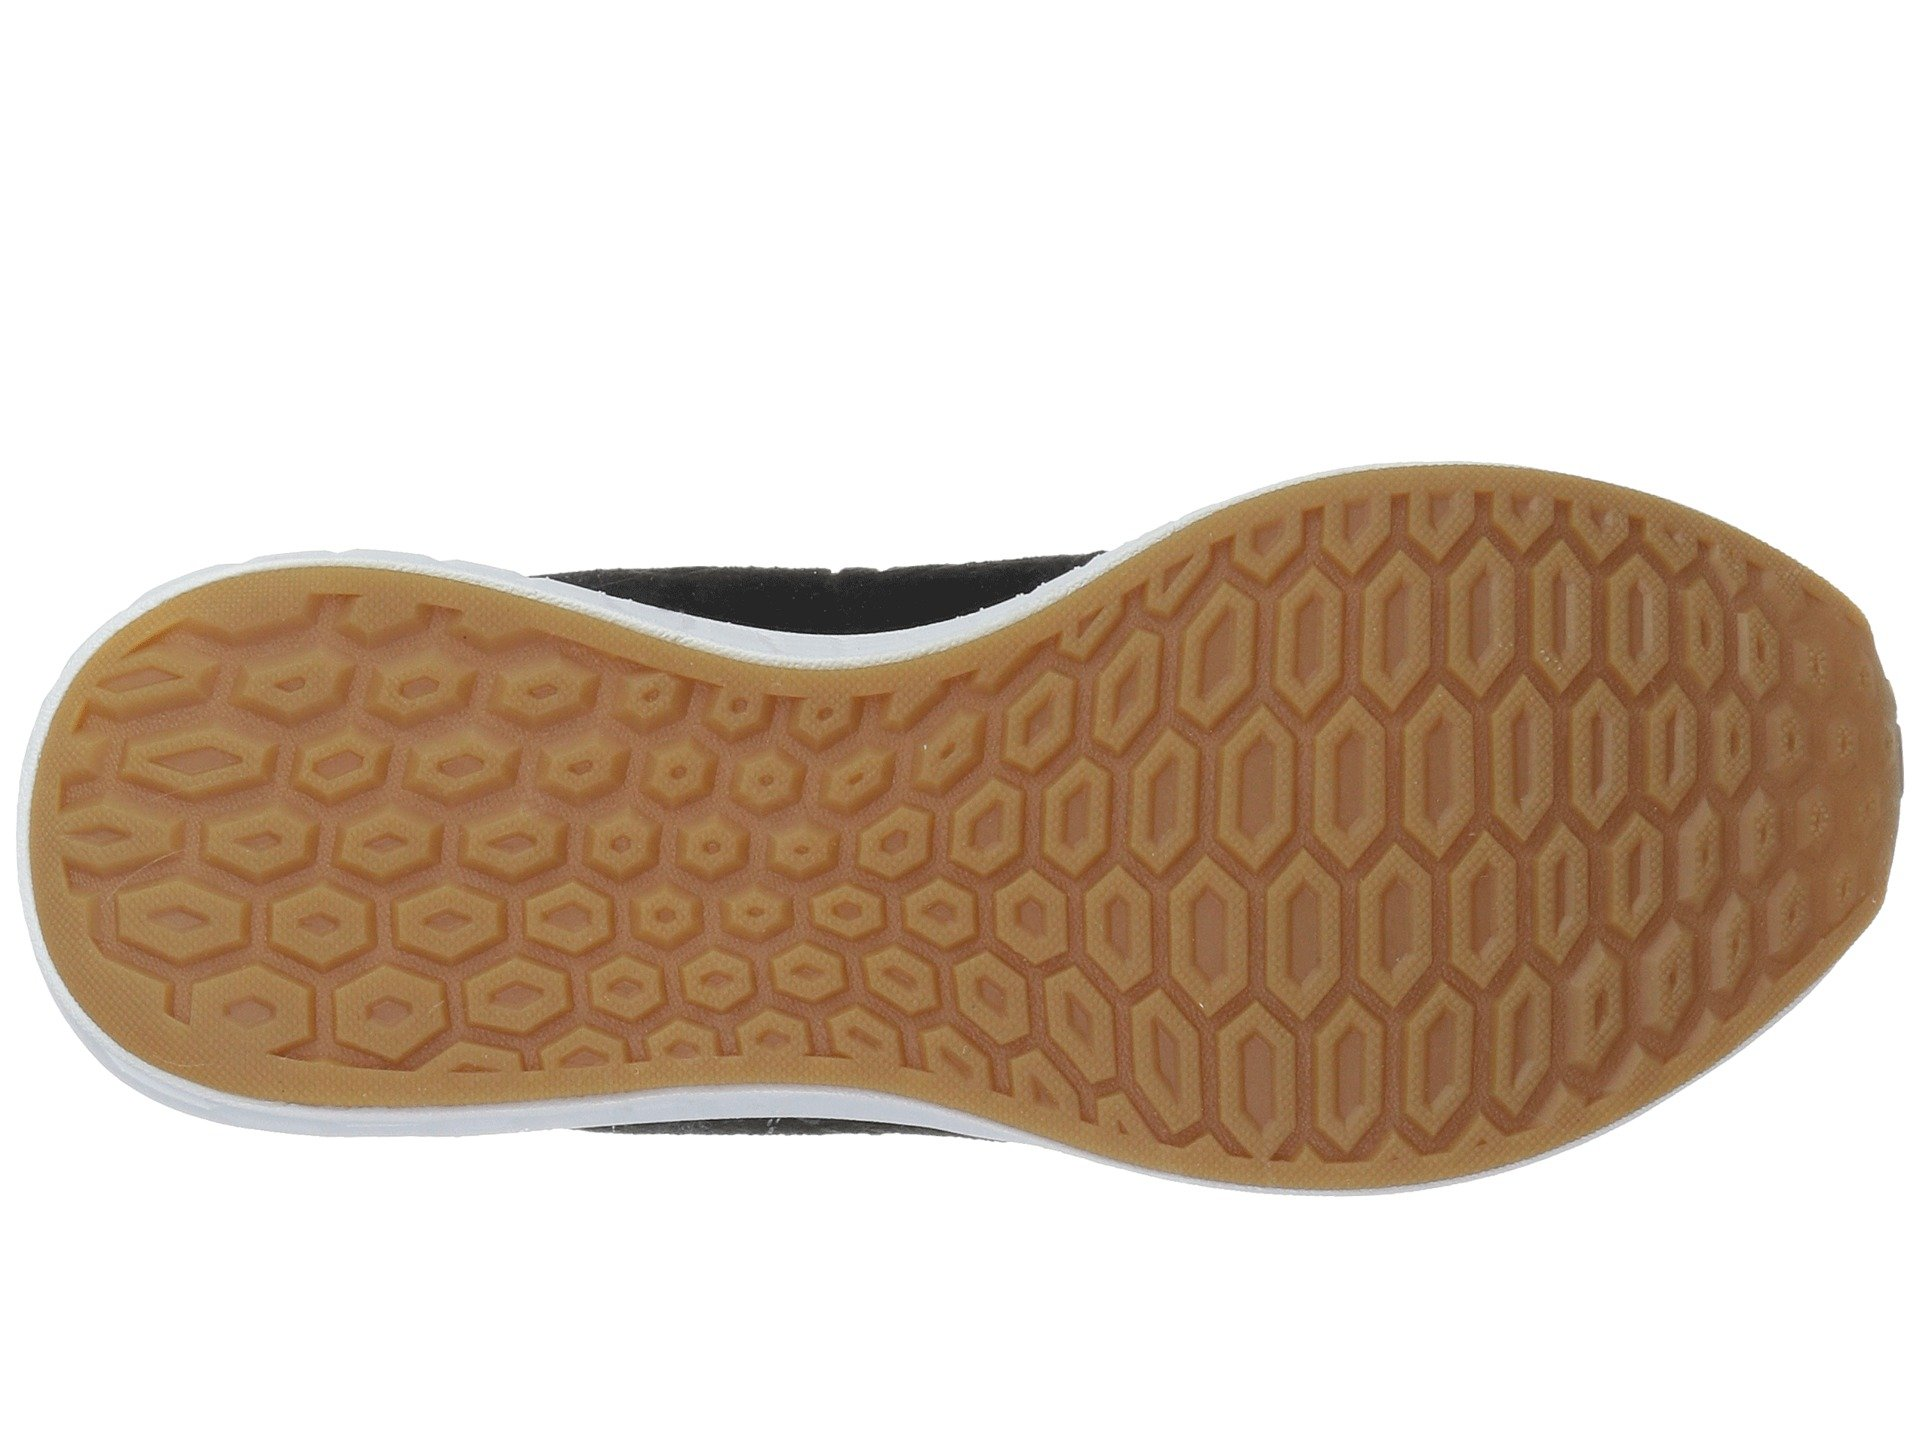circle: (101, 658, 1036, 1071)
polygon: (101, 658, 1036, 1071), (1163, 585, 1625, 1101)
